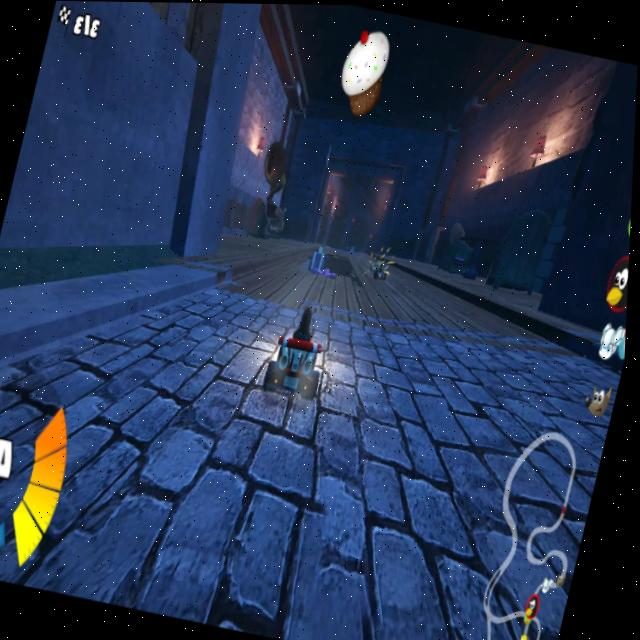bonus: (311, 241, 329, 270)
enemy_kart: (371, 252, 394, 284)
player_kart: (254, 291, 343, 421)
track: (309, 282, 508, 490)
